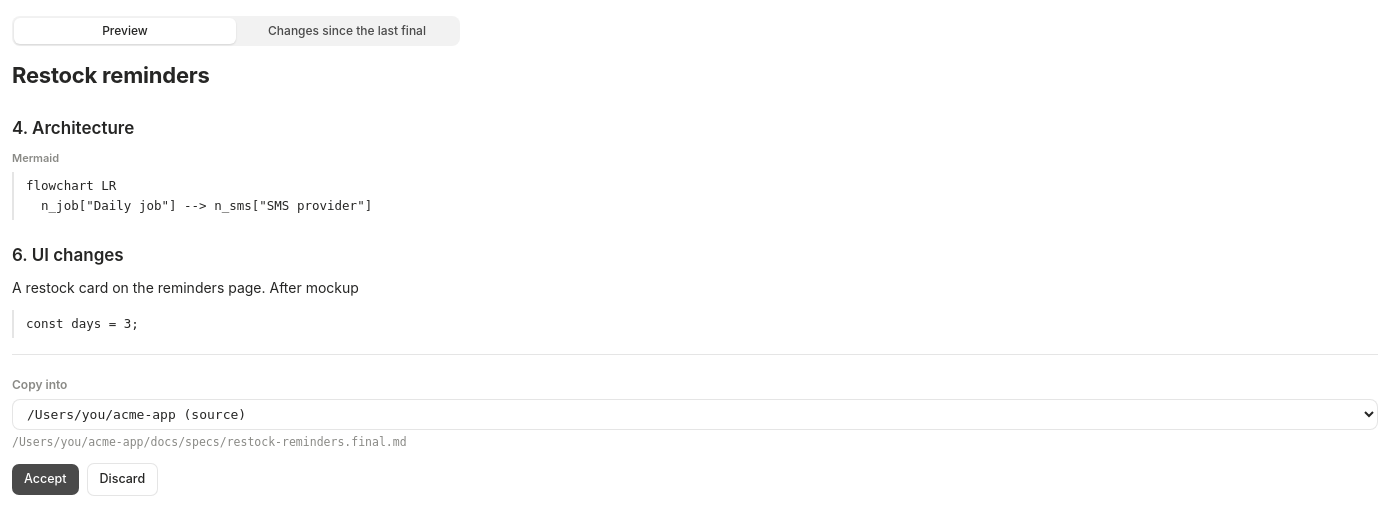
ProposalView › switches to the changes since the last final, when there was one
The image size is (1390, 513).
Click the tab "Changes since the last final" at (347,31), box left=236, top=18, right=458, bottom=44
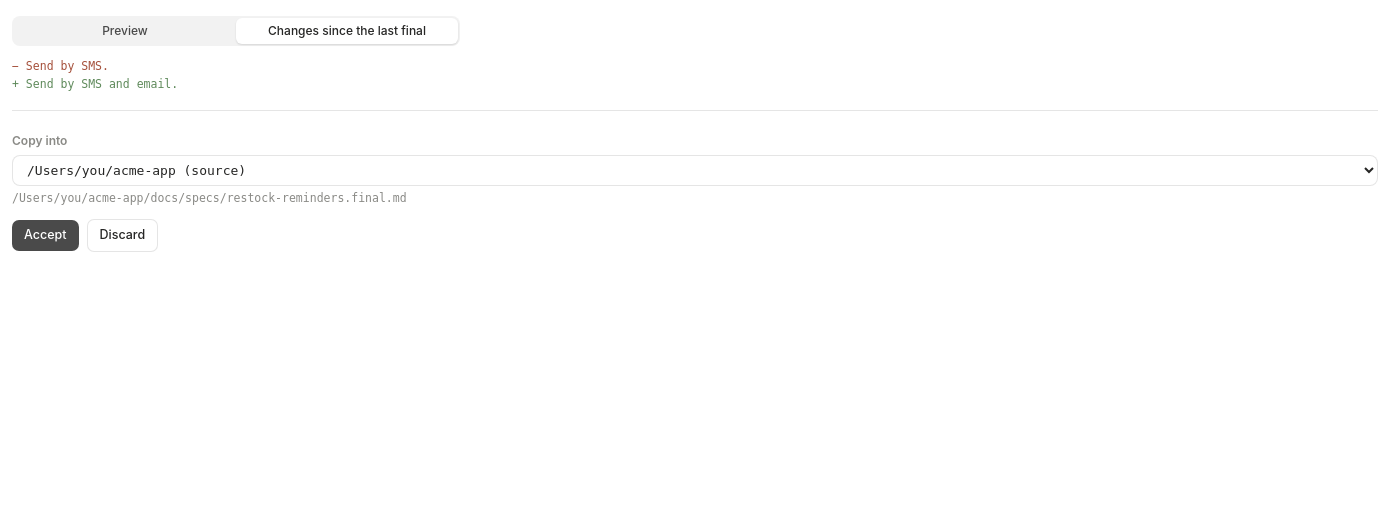
Expected: the element with test id "proposal-preview" is gone
Expected: the element with test id "proposal-diff" shows "+ Send by SMS and email.", left=12, top=59, right=178, bottom=91
Expected: the element with test id "proposal-diff" shows "− Send by SMS.", left=12, top=59, right=178, bottom=91
Click the tab "Preview" at (125,31), box left=14, top=18, right=236, bottom=44
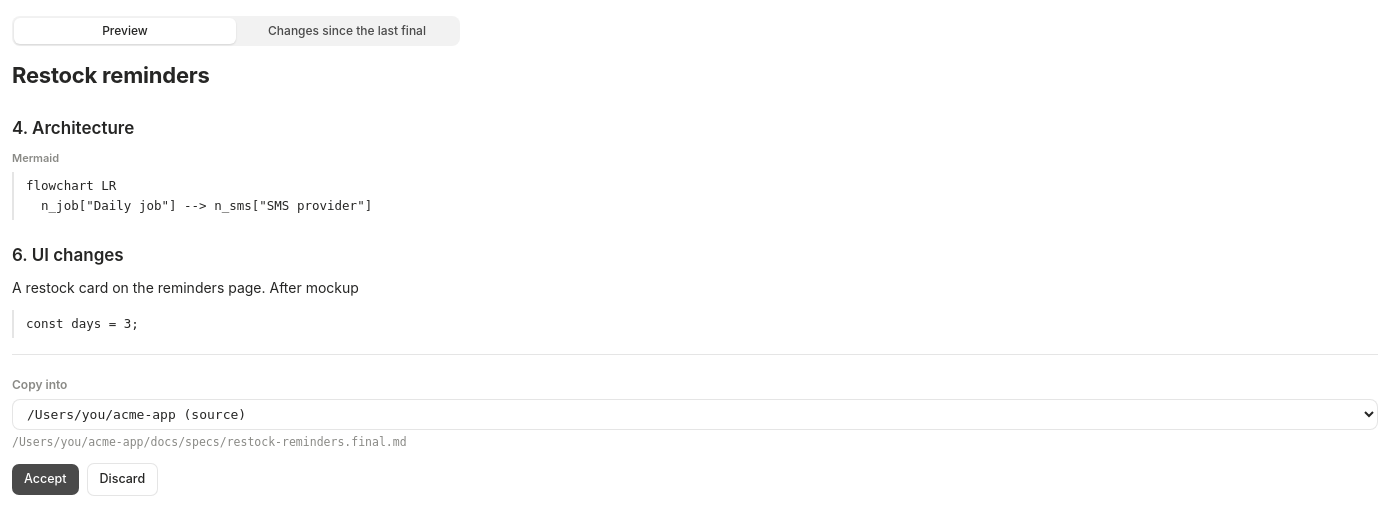
Expected: the element with test id "proposal-preview" is shown, left=12, top=58, right=648, bottom=338
